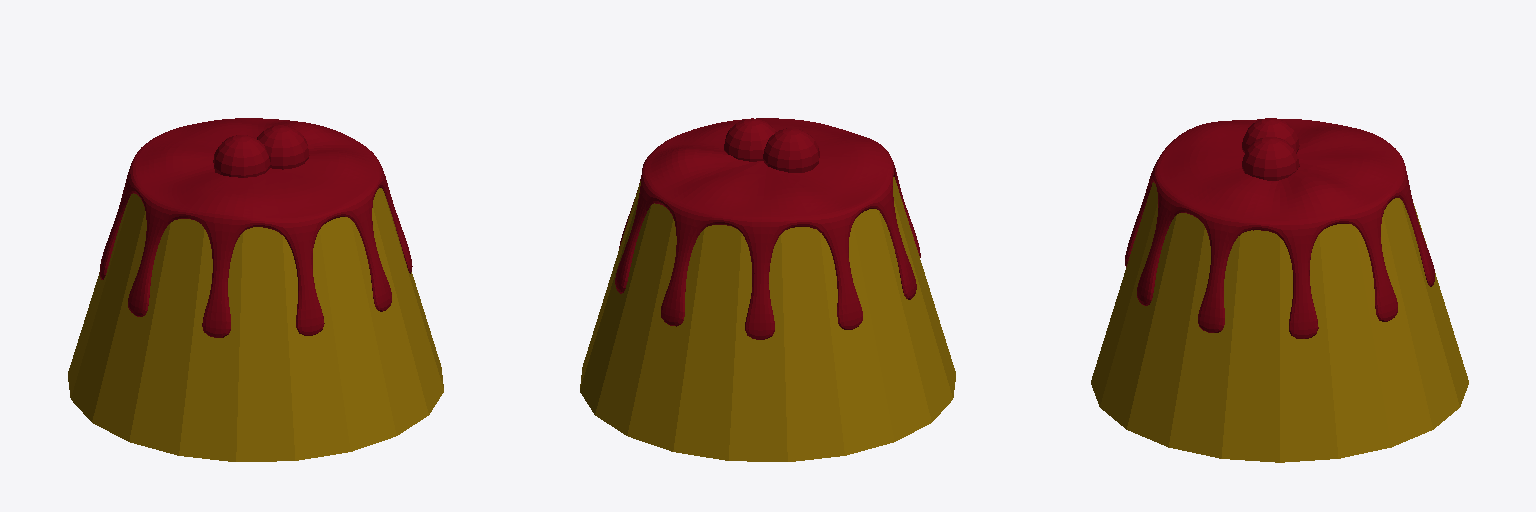
File: Pudding01.obj
3 renders of one model, left to right at view 1: azimuth 30°, elevation 25°; view 2: azimuth 150°, elevation 25°; view 3: azimuth 270°, elevation 25°, orthographic.
Parts seen in each view (by area): view 1: Pudding01_Cylinder.003; view 2: Pudding01_Cylinder.003; view 3: Pudding01_Cylinder.003.
Boxes of the visible parts, x1,y1,x2,y2 form: Pudding01_Cylinder.003: [68, 118, 443, 461]; Pudding01_Cylinder.003: [580, 118, 955, 461]; Pudding01_Cylinder.003: [1091, 118, 1468, 462].
Bounding box in the file's own units: 4.06 × 3 × 4.06.